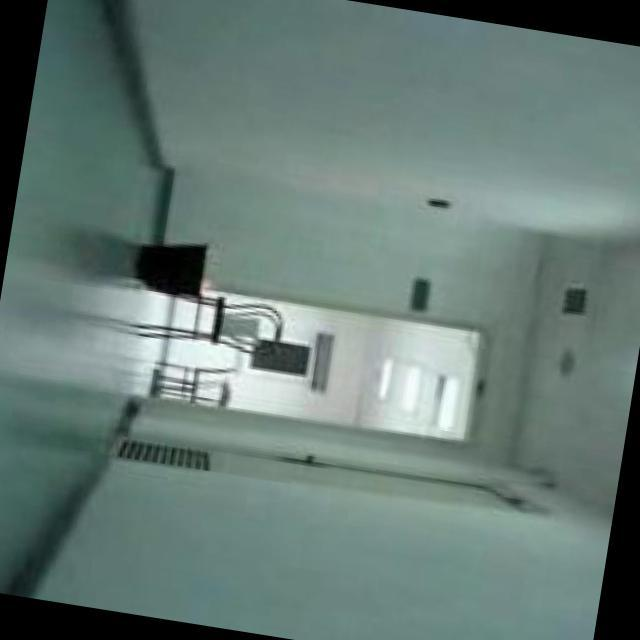Fire: (207, 279, 216, 290)
